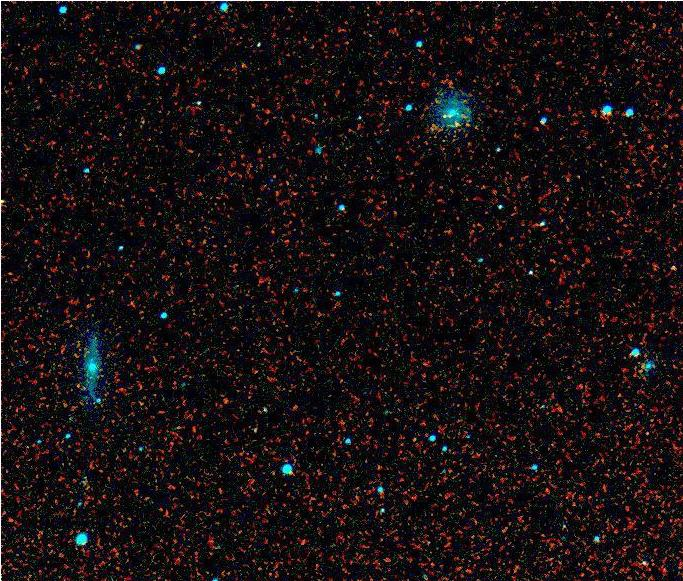star: (657, 250, 683, 280)
